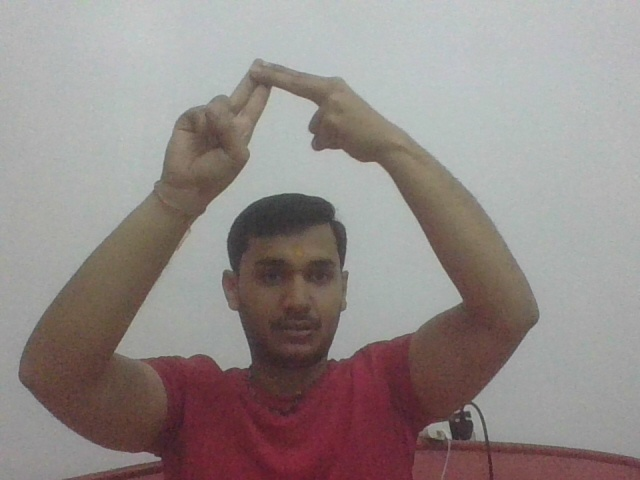F: (158, 54, 394, 167)
